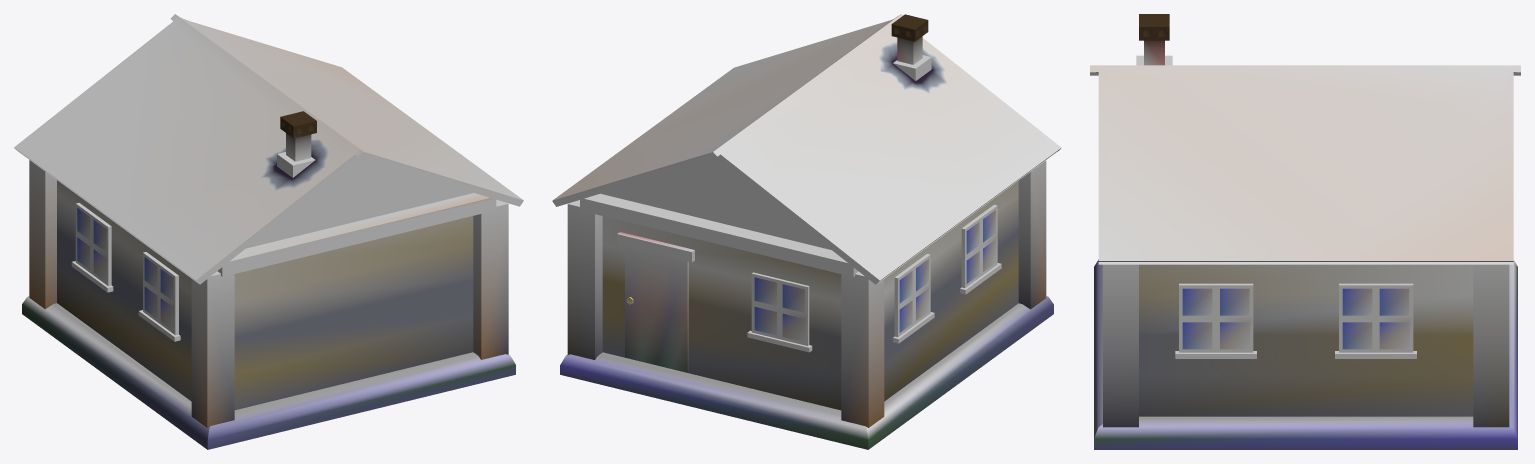
Rendered from HouseBigV3.fbx.
The picture shows the model from 3 angles, left to right: view 1: azimuth 30°, elevation 25°; view 2: azimuth 150°, elevation 25°; view 3: azimuth 270°, elevation 25°; orthographic projection. The views are drawn at different scales.
Visible parts, largest first — view 1: House; view 2: House; view 3: House.
Part boxes in pixels (bbox=[...]): House: bbox=[14, 14, 523, 449]; House: bbox=[552, 14, 1061, 449]; House: bbox=[1090, 14, 1520, 449].
Size of the model in its own units: 479 by 395 by 477.
